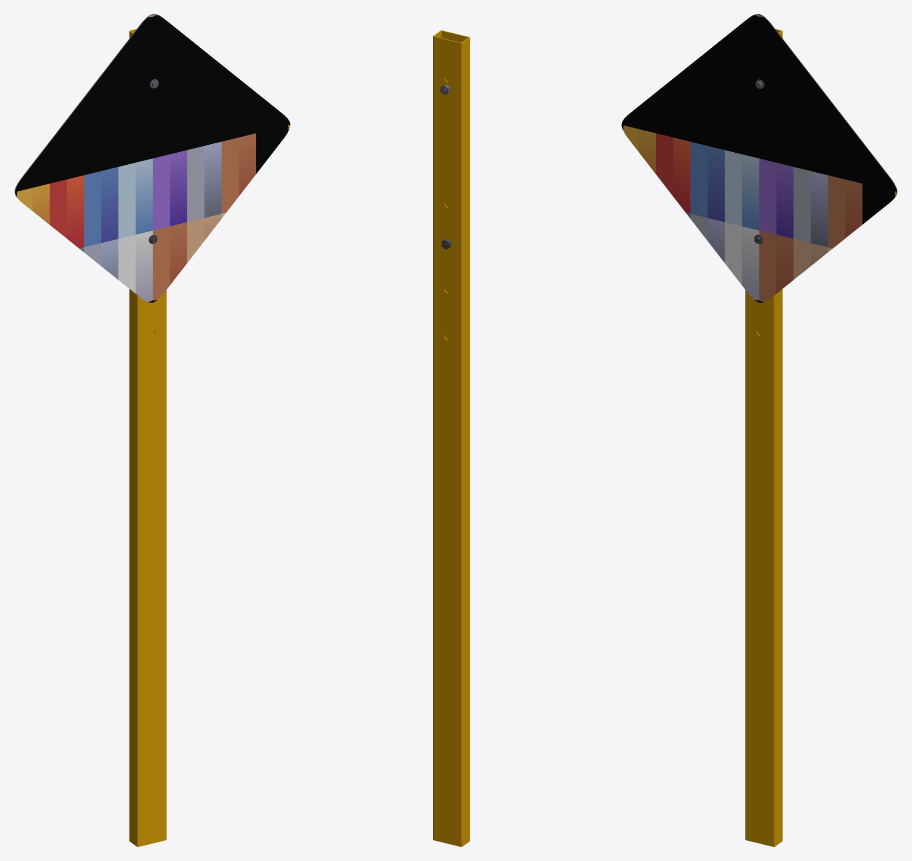
The model's file is Bike Warning Road Sign.glb.
The picture shows the model from 3 angles, left to right: view 1: azimuth 30°, elevation 25°; view 2: azimuth 150°, elevation 25°; view 3: azimuth 330°, elevation 25°; orthographic projection.
Visible parts, largest first — view 1: Grid, Cube; view 2: Cube; view 3: Grid, Cube.
Part boxes in pixels (left/top/right/bottom): Grid: left=15, top=14, right=290, bottom=302; Cube: left=129, top=29, right=166, bottom=846; Cube: left=433, top=30, right=469, bottom=846; Grid: left=621, top=14, right=896, bottom=302; Cube: left=745, top=29, right=782, bottom=846.
Size of the model in its own units: 0.9433 by 2.72 by 0.0813.
Materials: 4 (1 with a texture image).
